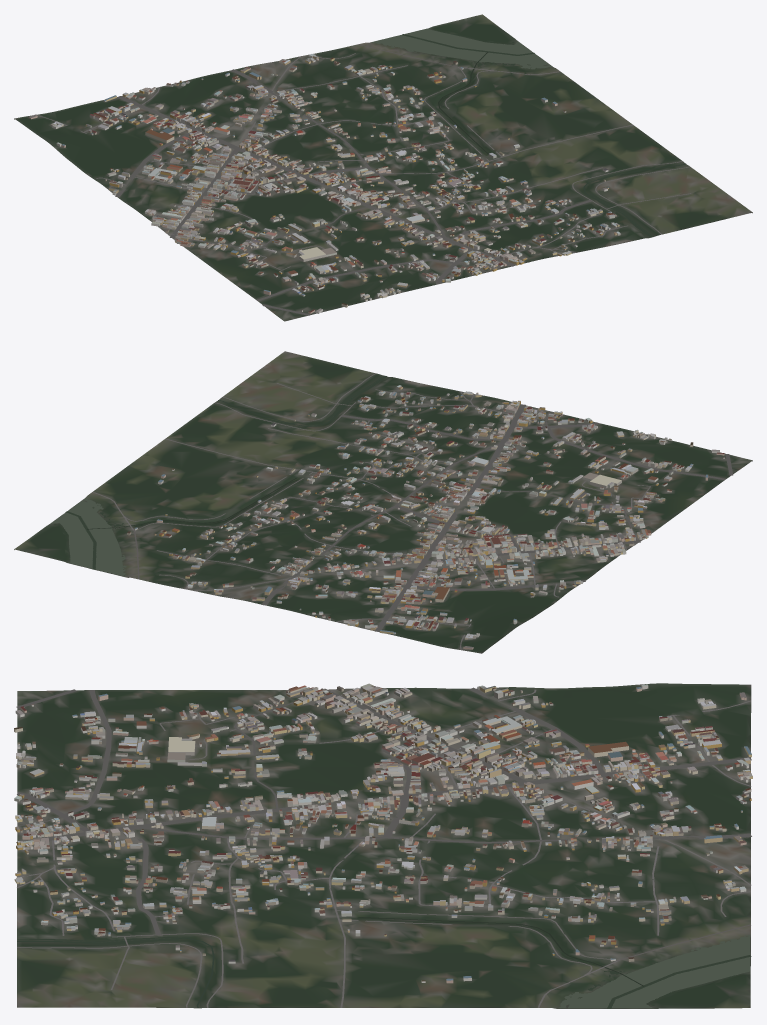
3 views of the same model, one above another, from view 1: azimuth 30°, elevation 25°; view 2: azimuth 150°, elevation 25°; view 3: azimuth 270°, elevation 25° (orthographic). The views are drawn at different scales.
Parts seen in each view (by area): view 1: ground, buildings, roads, water; view 2: ground, buildings, roads, water; view 3: ground, buildings, roads, water.
Part boxes in pixels (x1,y1,x2,y2): ground: [14, 14, 752, 321]; buildings: [28, 54, 620, 313]; roads: [37, 44, 690, 315]; water: [372, 28, 685, 237]; ground: [14, 351, 752, 653]; buildings: [127, 385, 724, 649]; roads: [92, 373, 733, 649]; water: [50, 375, 386, 576]; ground: [17, 683, 751, 1008]; buildings: [14, 683, 752, 983]; roads: [16, 687, 751, 1007]; water: [17, 917, 751, 1008].
Size of the model in its own units: 1410 by 40.84 by 1410.
